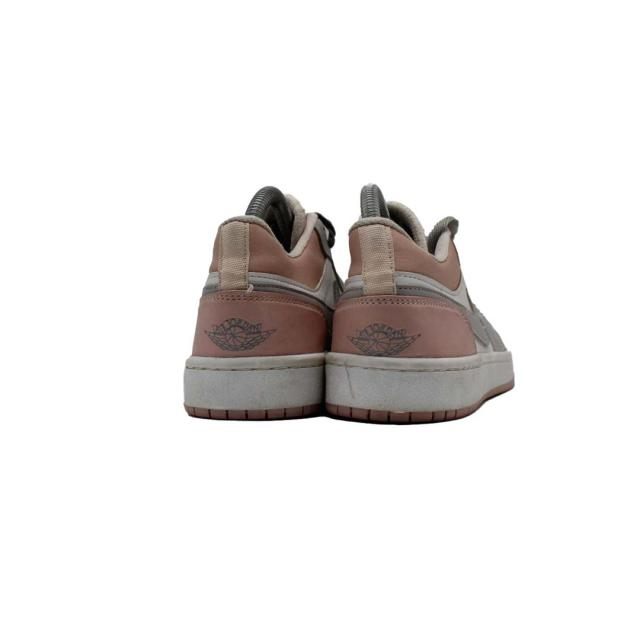heel: (190, 217, 323, 358), (342, 217, 475, 357)
midsole: (185, 351, 519, 422)
